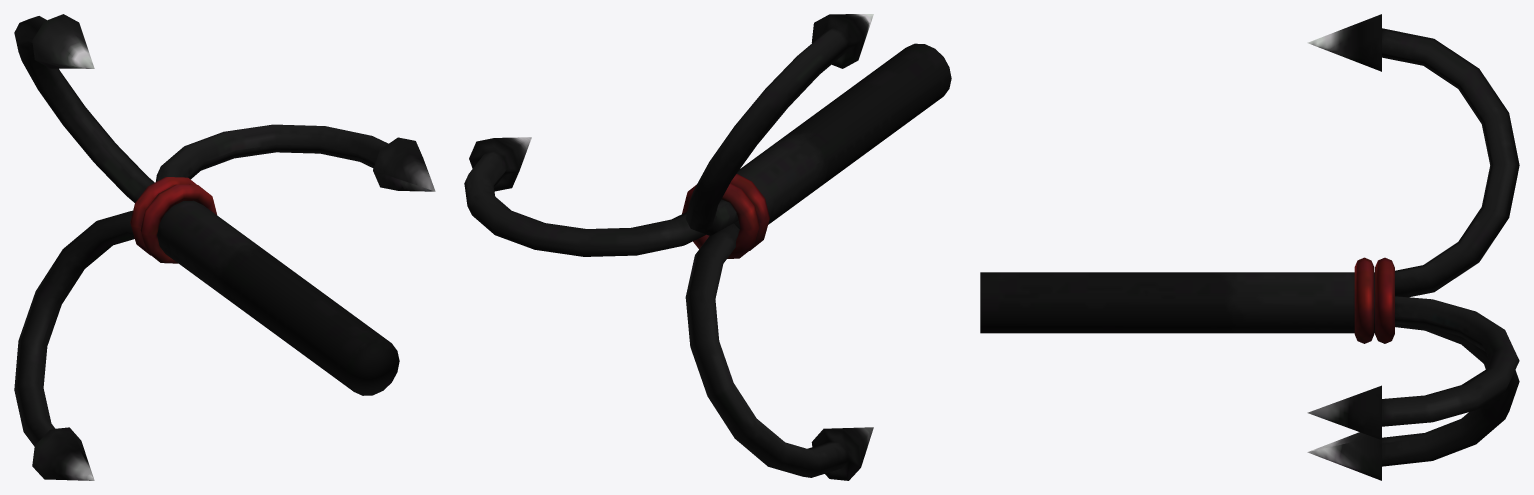
The model's file is Grapple.obj.
3 views of the same model, side by side, from view 1: azimuth 30°, elevation 25°; view 2: azimuth 150°, elevation 25°; view 3: azimuth 270°, elevation 25° (orthographic).
Visible parts, largest first — view 1: Grapplegun1; view 2: Grapplegun1; view 3: Grapplegun1.
Boxes of the visible parts, x1=… form: Grapplegun1: x1=14, y1=14, x2=435, y2=480; Grapplegun1: x1=464, y1=14, x2=951, y2=480; Grapplegun1: x1=980, y1=14, x2=1519, y2=480.
Size of the model in its own units: 0.899 by 1.02 by 1.08.
Materials: 1 (1 with a texture image).
